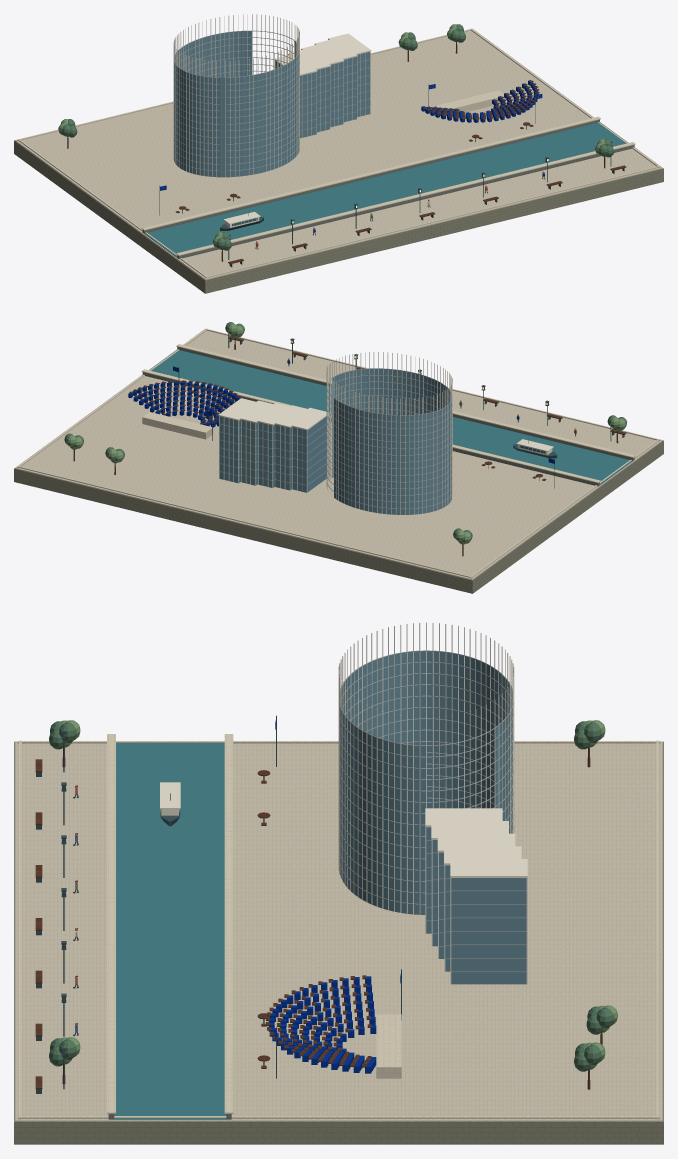
Rendered from estrasburgo-reference.glb.
3 views of the same model, one above another, from view 1: azimuth 30°, elevation 25°; view 2: azimuth 150°, elevation 25°; view 3: azimuth 270°, elevation 25° (orthographic). The views are drawn at different scales.
Visible parts, largest first — view 1: estrasburgo_arquitetura_Calcada portuguesa, estrasburgo_arquitetura_Vidro institucional, estrasburgo_arquitetura_Douro agua, estrasburgo_arquitetura_Marfim pintado, estrasburgo_arquitetura_Corte de terreno, estrasburgo_arquitetura_Cantaria clara, estrasburgo_arquitetura_Aco polido, estrasburgo_arquitetura_Muralha de granito, estrasburgo_arquitetura_Madeira de rabelo, estrasburgo_arquitetura_Azul Clube Europeu, estrasburgo_arquitetura_Folhagem, estrasburgo_arquitetura_Ferro pintado da ponte (+1 smaller); view 2: estrasburgo_arquitetura_Calcada portuguesa, estrasburgo_arquitetura_Vidro institucional, estrasburgo_arquitetura_Marfim pintado, estrasburgo_arquitetura_Corte de terreno, estrasburgo_arquitetura_Douro agua, estrasburgo_arquitetura_Cantaria clara, estrasburgo_arquitetura_Aco polido, estrasburgo_arquitetura_Azul Clube Europeu, estrasburgo_arquitetura_Muralha de granito, estrasburgo_arquitetura_Madeira de rabelo, estrasburgo_arquitetura_Folhagem clara, estrasburgo_arquitetura_Ferro pintado da ponte; view 3: estrasburgo_arquitetura_Calcada portuguesa, estrasburgo_arquitetura_Vidro institucional, estrasburgo_arquitetura_Douro agua, estrasburgo_arquitetura_Marfim pintado, estrasburgo_arquitetura_Corte de terreno, estrasburgo_arquitetura_Cantaria clara, estrasburgo_arquitetura_Aco polido, estrasburgo_arquitetura_Azul Clube Europeu, estrasburgo_arquitetura_Madeira de rabelo, estrasburgo_arquitetura_Folhagem, estrasburgo_arquitetura_Ferro pintado da ponte.
Part boxes in pixels (x1,y1,x2,y2): estrasburgo_arquitetura_Calcada portuguesa: (15,29,662,279); estrasburgo_arquitetura_Vidro institucional: (174,31,369,177); estrasburgo_arquitetura_Douro agua: (144,122,627,257); estrasburgo_arquitetura_Marfim pintado: (173,14,371,177); estrasburgo_arquitetura_Corte de terreno: (14,140,663,293); estrasburgo_arquitetura_Cantaria clara: (17,28,660,278); estrasburgo_arquitetura_Aco polido: (173,30,370,171); estrasburgo_arquitetura_Muralha de granito: (142,119,634,258); estrasburgo_arquitetura_Madeira de rabelo: (67,42,626,264); estrasburgo_arquitetura_Azul Clube Europeu: (421,80,538,122); estrasburgo_arquitetura_Folhagem: (61,24,614,250); estrasburgo_arquitetura_Ferro pintado da ponte: (159,84,624,267); estrasburgo_arquitetura_Calcada portuguesa: (15,329,662,579); estrasburgo_arquitetura_Vidro institucional: (219,369,451,514); estrasburgo_arquitetura_Marfim pintado: (218,352,452,514); estrasburgo_arquitetura_Corte de terreno: (14,440,663,593); estrasburgo_arquitetura_Douro agua: (150,349,632,484); estrasburgo_arquitetura_Cantaria clara: (17,328,660,578); estrasburgo_arquitetura_Aco polido: (219,368,452,509); estrasburgo_arquitetura_Azul Clube Europeu: (128,381,239,427); estrasburgo_arquitetura_Muralha de granito: (142,347,634,486); estrasburgo_arquitetura_Madeira de rabelo: (73,336,626,556); estrasburgo_arquitetura_Folhagem clara: (66,323,626,544); estrasburgo_arquitetura_Ferro pintado da ponte: (178,333,624,488); estrasburgo_arquitetura_Calcada portuguesa: (15,741,662,1121); estrasburgo_arquitetura_Vidro institucional: (340,651,526,984); estrasburgo_arquitetura_Douro agua: (114,743,226,1119); estrasburgo_arquitetura_Marfim pintado: (338,622,527,984); estrasburgo_arquitetura_Corte de terreno: (14,741,663,1144); estrasburgo_arquitetura_Cantaria clara: (17,734,660,1119); estrasburgo_arquitetura_Aco polido: (338,650,526,972); estrasburgo_arquitetura_Azul Clube Europeu: (268,976,376,1073); estrasburgo_arquitetura_Madeira de rabelo: (35,747,602,1089); estrasburgo_arquitetura_Folhagem: (49,721,614,1071); estrasburgo_arquitetura_Ferro pintado da ponte: (36,715,401,1093).
Size of the model in its own units: 72 by 19.5 by 52.
20 materials, 5 textured.
